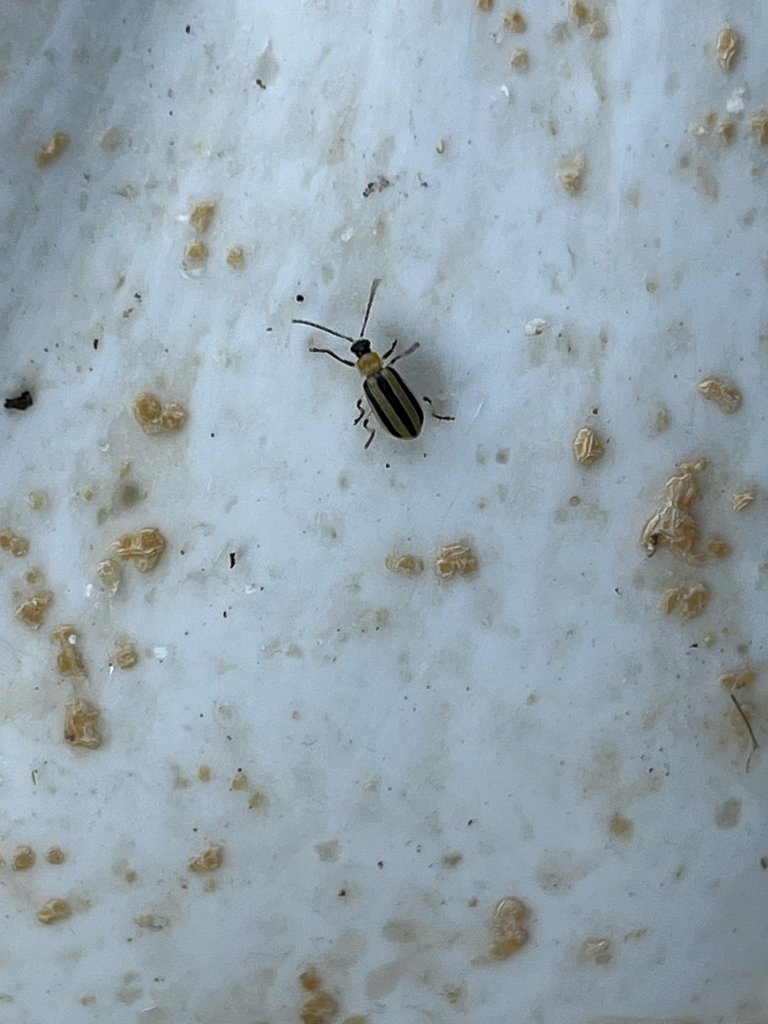potato_beetle: (259, 237, 488, 498)
